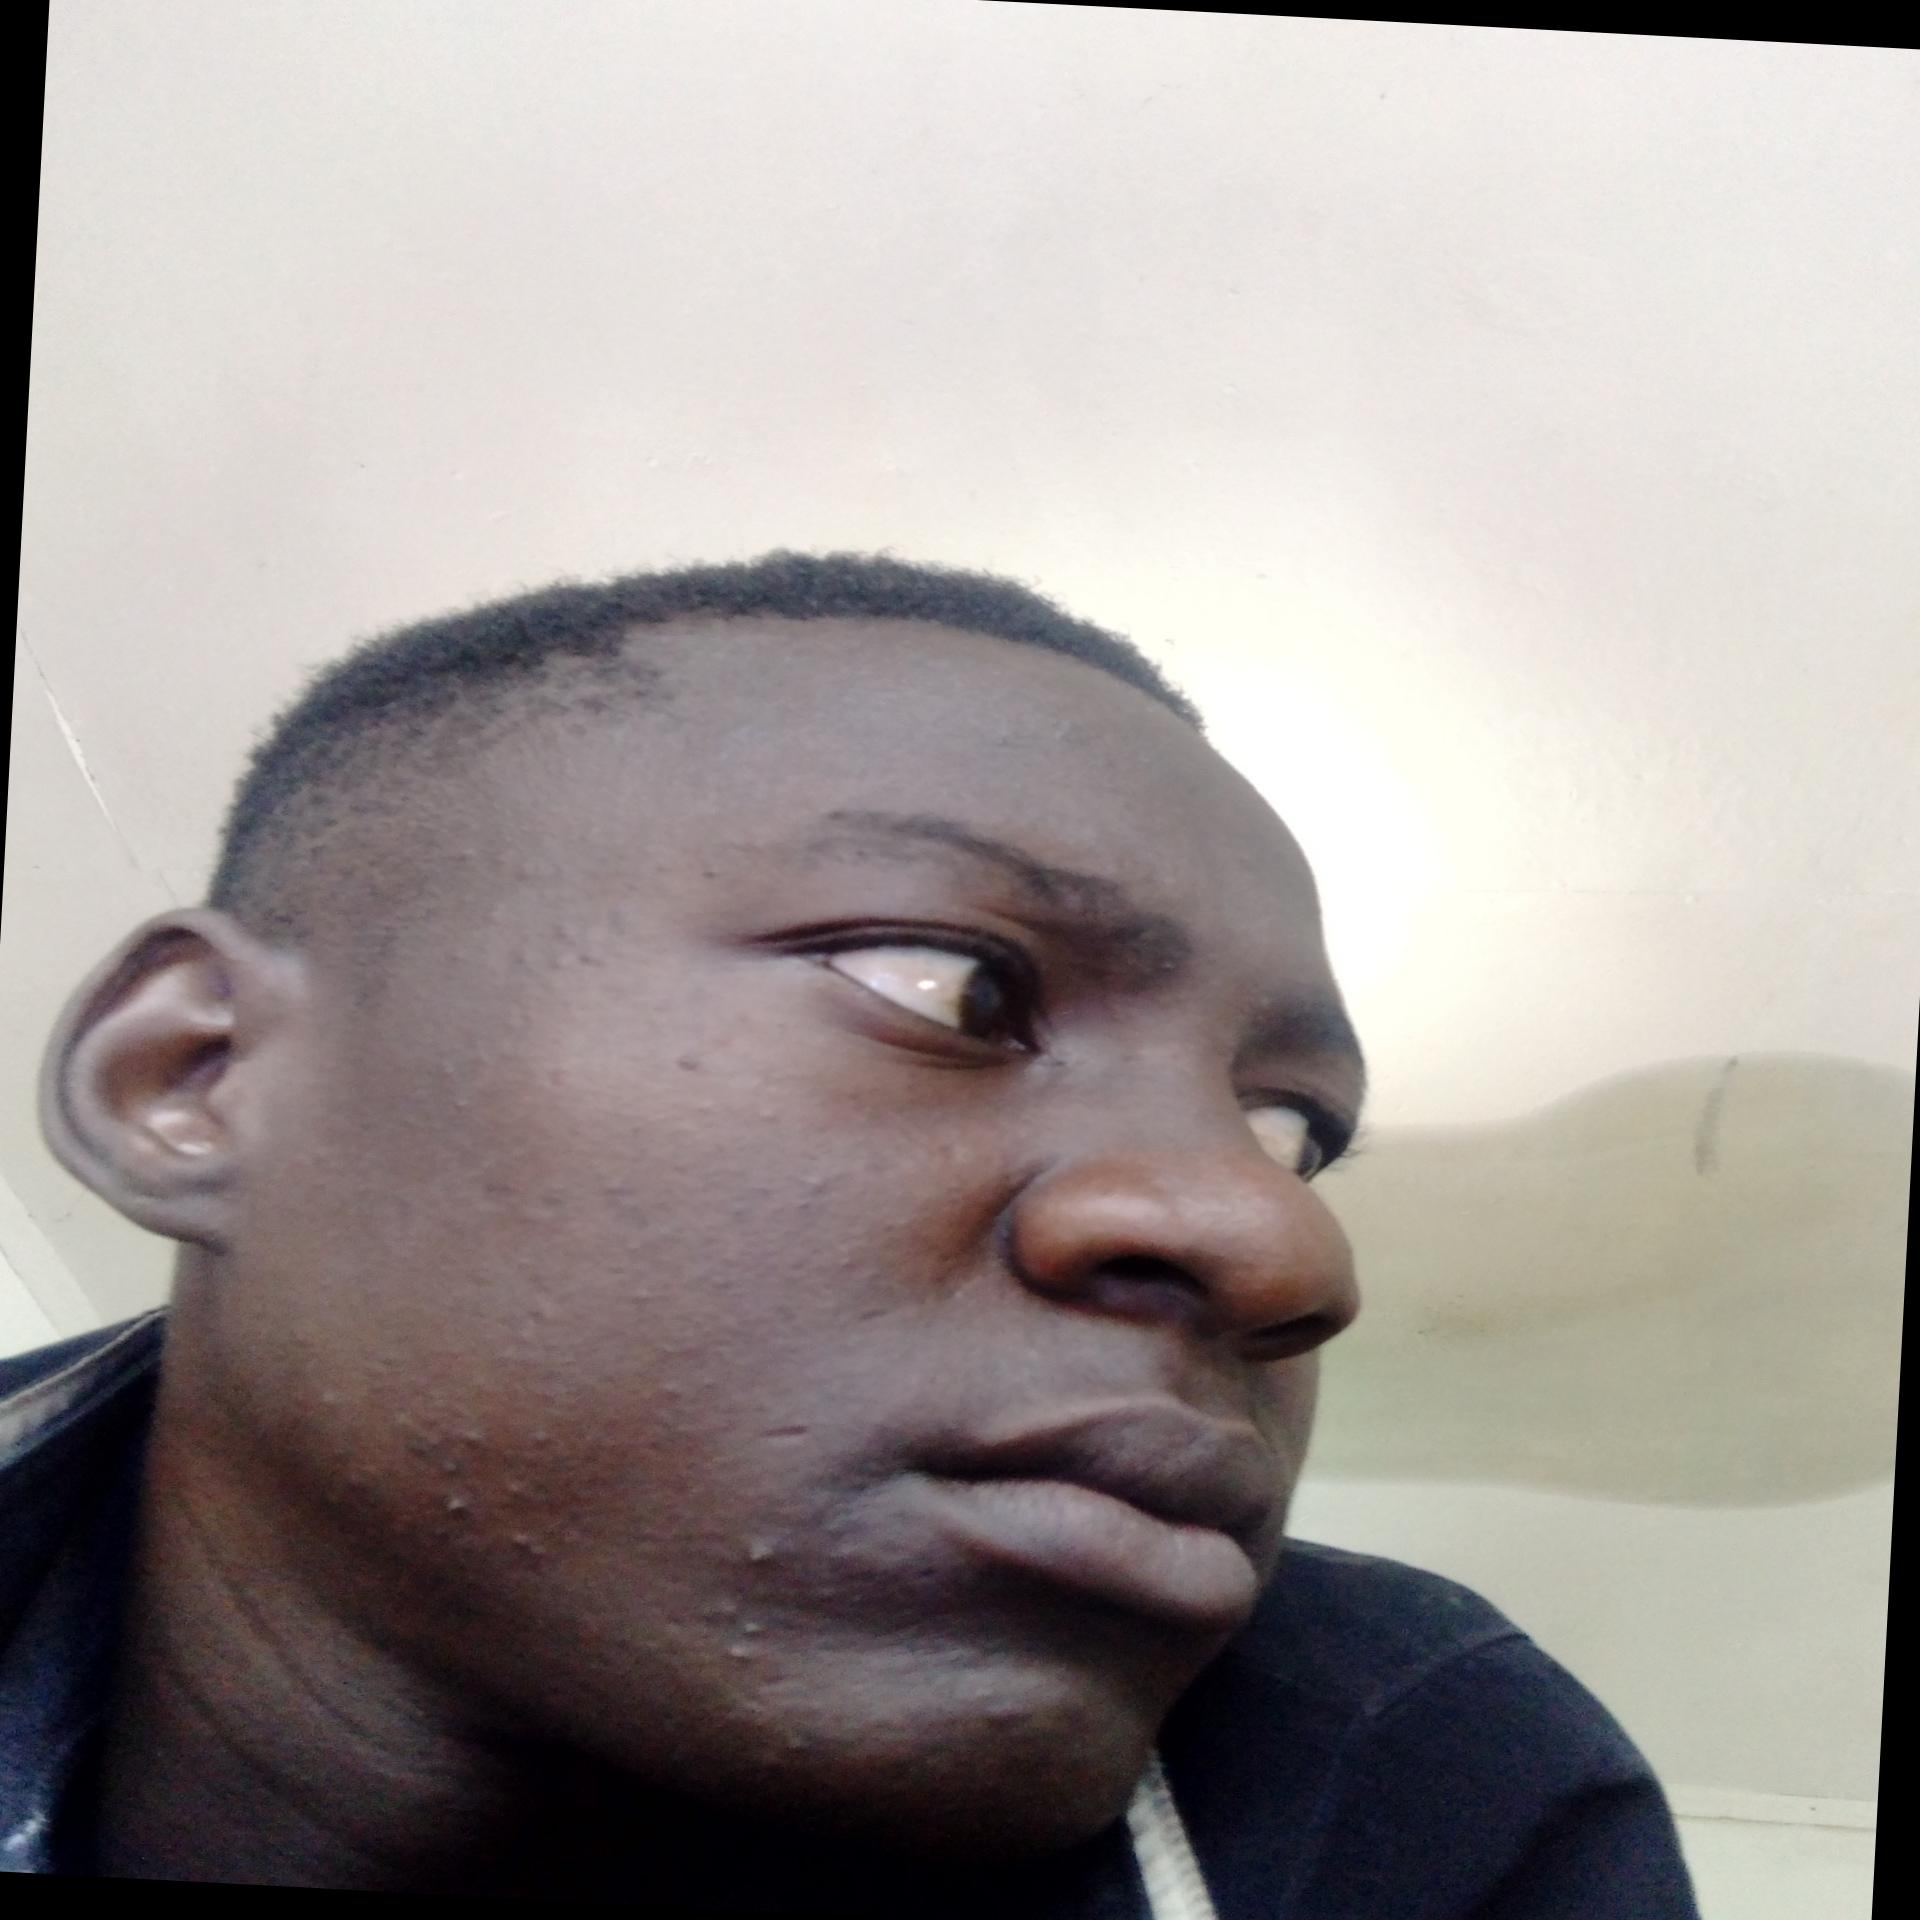Acne: (517, 911, 601, 972), (777, 1164, 839, 1224), (436, 1053, 487, 1116), (978, 1695, 1043, 1737), (723, 1614, 774, 1667), (524, 1298, 566, 1352), (819, 1533, 874, 1575), (733, 1533, 782, 1577), (505, 1526, 557, 1560), (487, 1468, 540, 1502), (594, 1171, 638, 1199), (666, 1043, 707, 1071), (443, 1489, 473, 1524), (454, 1422, 489, 1452), (663, 1378, 702, 1405), (529, 1422, 561, 1452), (737, 1099, 781, 1120), (626, 1284, 659, 1303), (454, 842, 482, 865), (318, 1385, 348, 1407)
